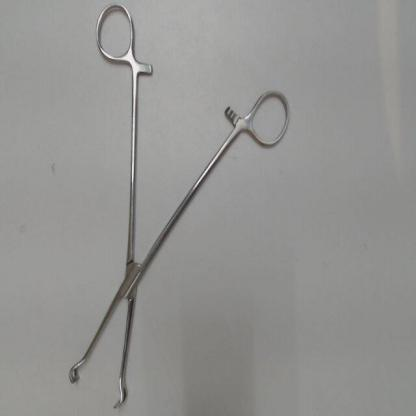8 Babcock Tissue Forceps: (60, 3, 294, 415)
